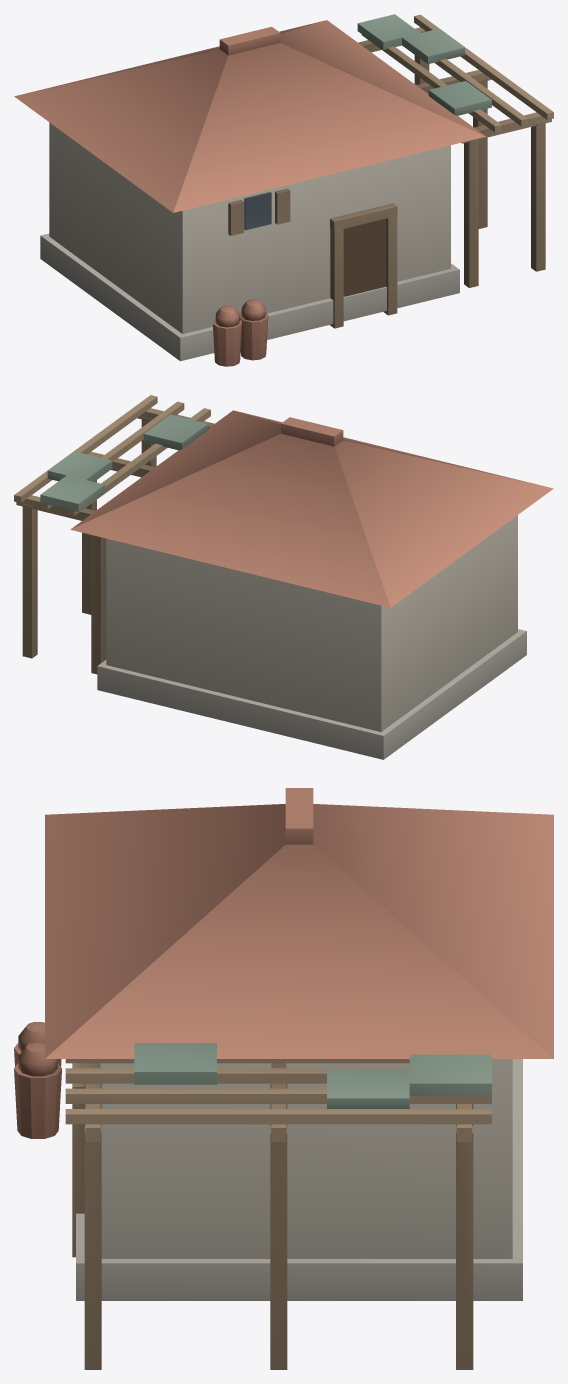
File: house_ancient_1.glb
3 renders of one model, top to bottom at view 1: azimuth 30°, elevation 25°; view 2: azimuth 150°, elevation 25°; view 3: azimuth 270°, elevation 25°, orthographic. The views are drawn at different scales.
Parts seen in each view (by area): view 1: Body_Roof, Body_Wall, Body_Detail; view 2: Body_Roof, Body_Wall, Body_Detail; view 3: Body_Roof, Body_Detail, Body_Wall.
Part boxes in pixels (box(x1,y1,x2,y2)): Body_Roof: box(14, 20, 485, 366); Body_Wall: box(49, 122, 450, 333); Body_Detail: box(40, 14, 553, 361); Body_Roof: box(70, 410, 553, 607); Body_Wall: box(106, 515, 517, 731); Body_Detail: box(14, 395, 526, 759); Body_Roof: box(14, 788, 553, 1138); Body_Detail: box(65, 1043, 522, 1369); Body_Wall: box(100, 1059, 512, 1258).
Bounding box in the file's own units: 1.05 × 0.625 × 0.785.
